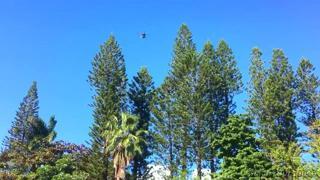UAV: (137, 30, 150, 40)
